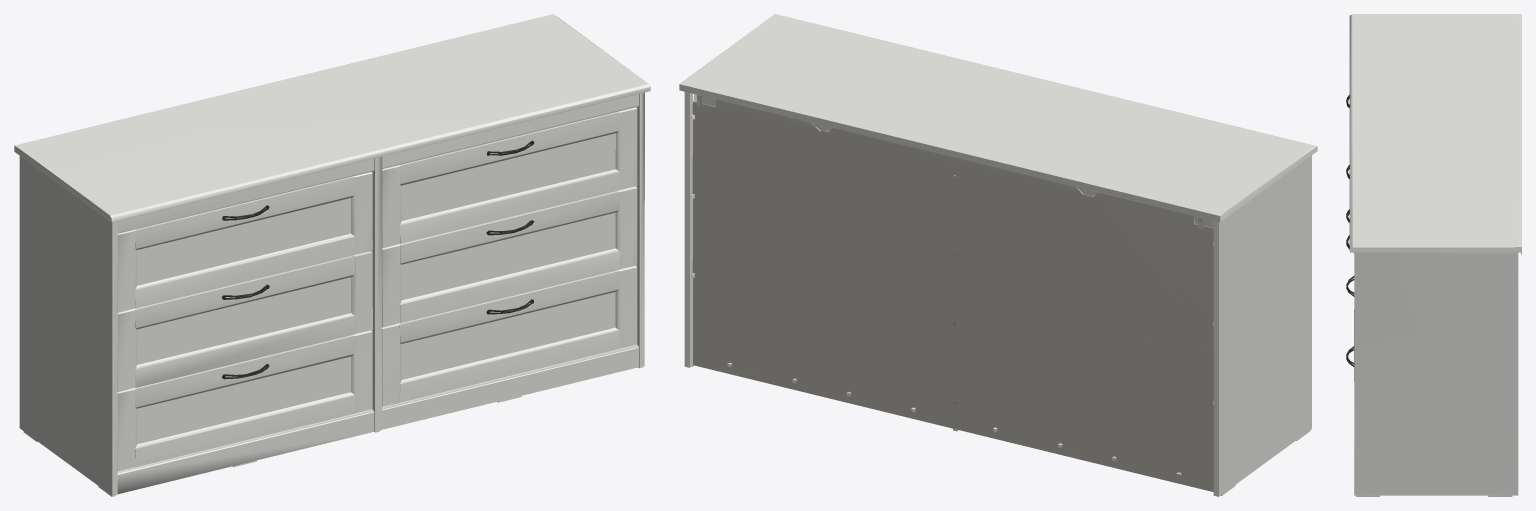
The model's file is 26 - SONGESAND Chest of 6 drawers - white 161x81 cm.glb.
3 renders of one model, left to right at view 1: azimuth 30°, elevation 25°; view 2: azimuth 150°, elevation 25°; view 3: azimuth 270°, elevation 25°, orthographic. The views are drawn at different scales.
Parts seen in each view (by area): view 1: 70366798-SONGESAND001; view 2: 70366798-SONGESAND001; view 3: 70366798-SONGESAND001.
Part boxes in pixels (<box>): 70366798-SONGESAND001: <box>14,14,650,496</box>; 70366798-SONGESAND001: <box>679,14,1317,496</box>; 70366798-SONGESAND001: <box>1346,14,1521,496</box>.
Bounding box in the file's own units: 1.6 × 0.8057 × 0.5103.
Materials: 1 (1 with a texture image).
